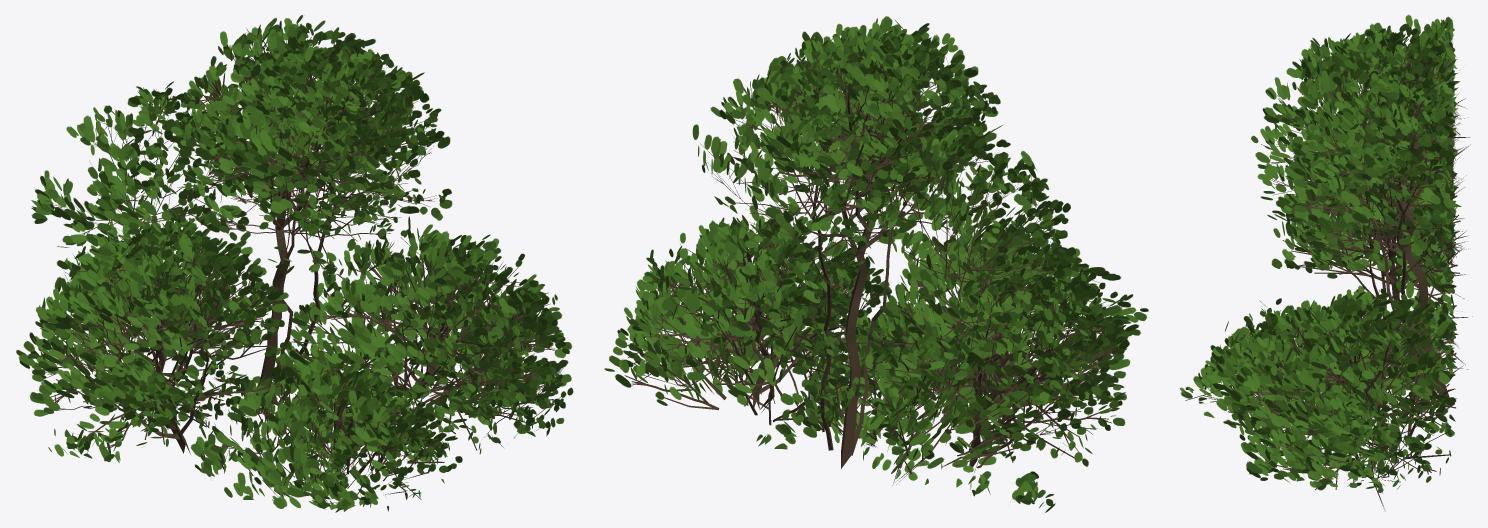
The picture shows the model from 3 angles, left to right: view 1: azimuth 30°, elevation 25°; view 2: azimuth 150°, elevation 25°; view 3: azimuth 270°, elevation 25°; orthographic projection. The views are drawn at different scales.
Parts seen in each view (by area): view 1: oak 01.001_trunk_Mat.001_0.277; view 2: oak 01.001_trunk_Mat.001_0.277; view 3: oak 01.001_trunk_Mat.001_0.277.
Boxes of the visible parts, x1,y1,x2,y2 form: oak 01.001_trunk_Mat.001_0.277: (16,15,573,512); oak 01.001_trunk_Mat.001_0.277: (604,16,1148,512); oak 01.001_trunk_Mat.001_0.277: (1180,14,1472,511).
Bounding box in the file's own units: 4.1 × 3.31 × 2.28.
Materials: 2 (1 with a texture image).
